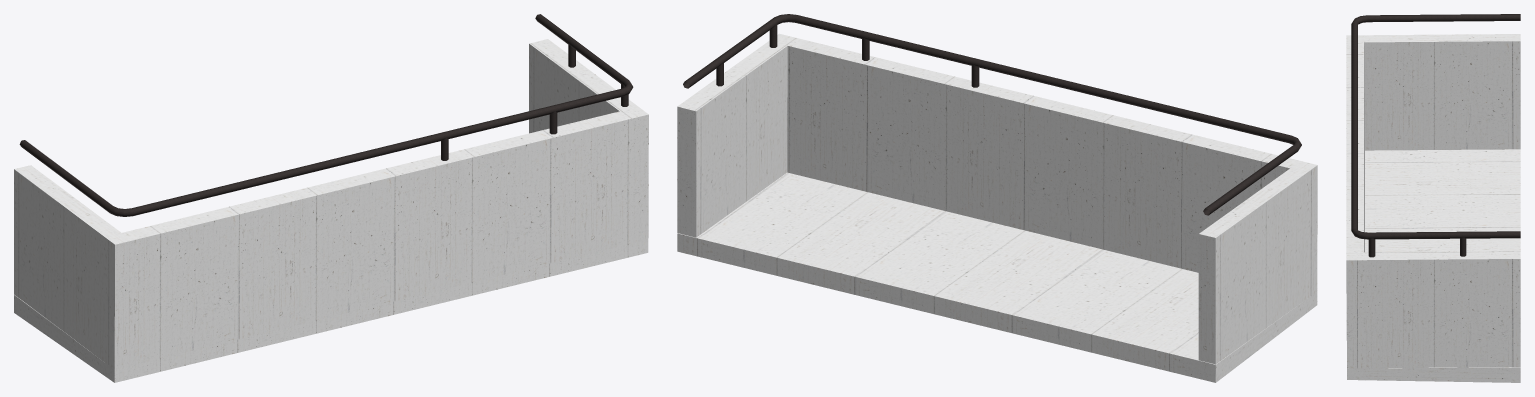
The model's file is BetonGeländer.glb.
3 renders of one model, left to right at view 1: azimuth 30°, elevation 25°; view 2: azimuth 150°, elevation 25°; view 3: azimuth 270°, elevation 25°, orthographic. The views are drawn at different scales.
Parts seen in each view (by area): view 1: Cube.007, Cube.005; view 2: Cube.007, Cube.005; view 3: Cube.007, Cube.005.
Part boxes in pixels (box(x1,y1,x2,y2)): Cube.007: box(14, 14, 648, 382); Cube.005: box(441, 44, 628, 160); Cube.007: box(677, 14, 1317, 382); Cube.005: box(716, 24, 979, 87); Cube.007: box(1346, 14, 1520, 382); Cube.005: box(1368, 237, 1466, 257).
Bounding box in the file's own units: 9.78 × 2.98 × 3.21.
Materials: 2 (2 with a texture image).
